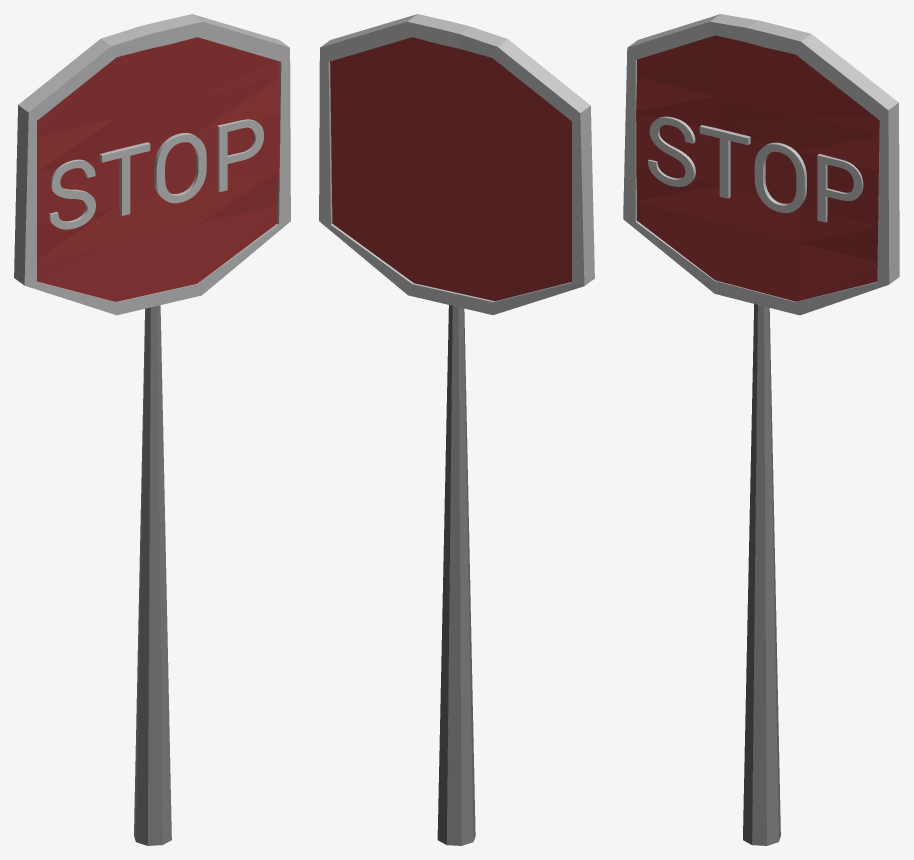
File: CUPIC_STOPSIGN.gltf
The picture shows the model from 3 angles, left to right: view 1: azimuth 30°, elevation 25°; view 2: azimuth 150°, elevation 25°; view 3: azimuth 330°, elevation 25°; orthographic projection.
Visible parts, largest first — view 1: node-0; view 2: node-0; view 3: node-0.
Boxes of the visible parts, x1,y1,x2,y2 form: node-0: (14,14,290,845); node-0: (319,14,594,845); node-0: (623,14,899,845).
Size of the model in its own units: 97.14 by 283 by 12.44.
Materials: 1 (1 with a texture image).
